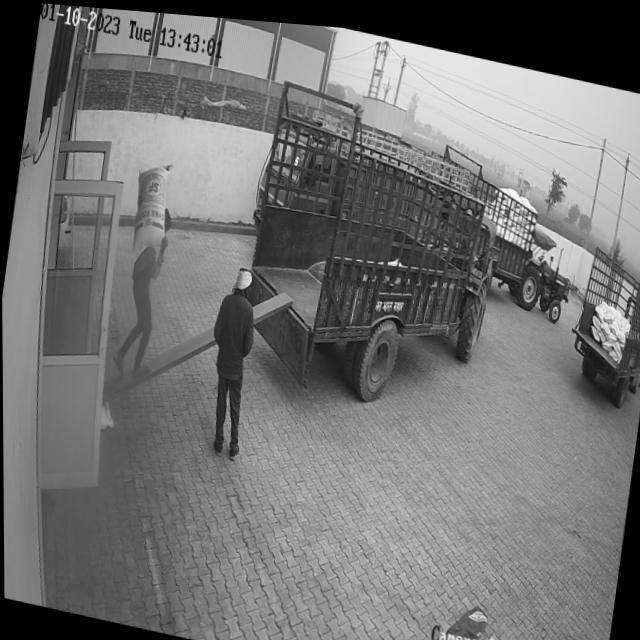sack: (126, 155, 175, 265)
